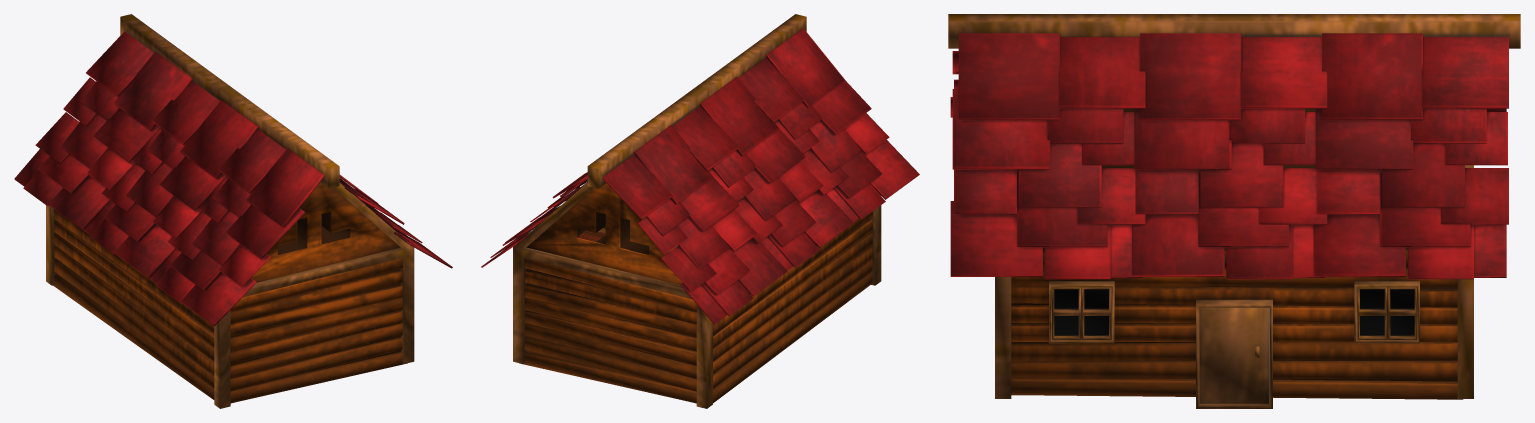
Rendered from Rumah.fbx.
3 renders of one model, left to right at view 1: azimuth 30°, elevation 25°; view 2: azimuth 150°, elevation 25°; view 3: azimuth 270°, elevation 25°, orthographic. The views are drawn at different scales.
Parts seen in each view (by area): view 1: Rumah_LOD0; view 2: Rumah_LOD0; view 3: Rumah_LOD0.
Part boxes in pixels (x1=…): Rumah_LOD0: x1=14, y1=14, x2=452, y2=408; Rumah_LOD0: x1=481, y1=14, x2=919, y2=408; Rumah_LOD0: x1=948, y1=14, x2=1520, y2=408.
Size of what is drawn, in the model's own units: 439 by 660 by 411.
